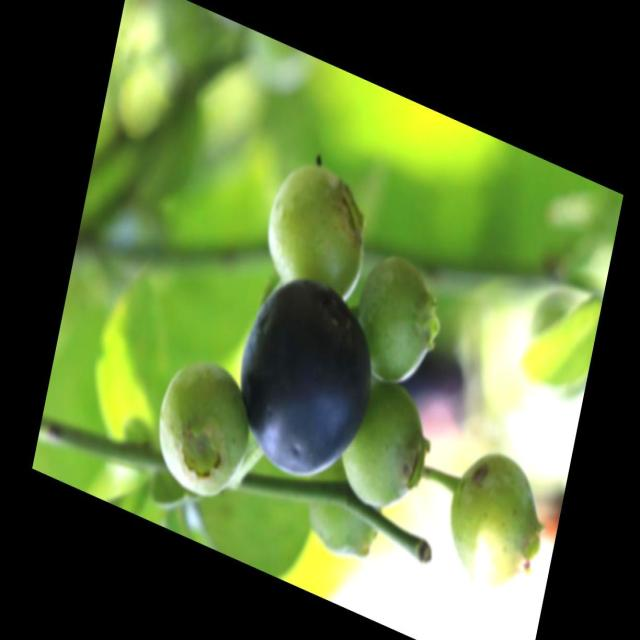blueberry: (220, 250, 389, 504)
blueberry-unripe: (255, 144, 378, 322), (434, 430, 551, 609), (144, 340, 262, 513), (331, 362, 438, 528), (347, 240, 447, 398), (301, 462, 388, 573)
